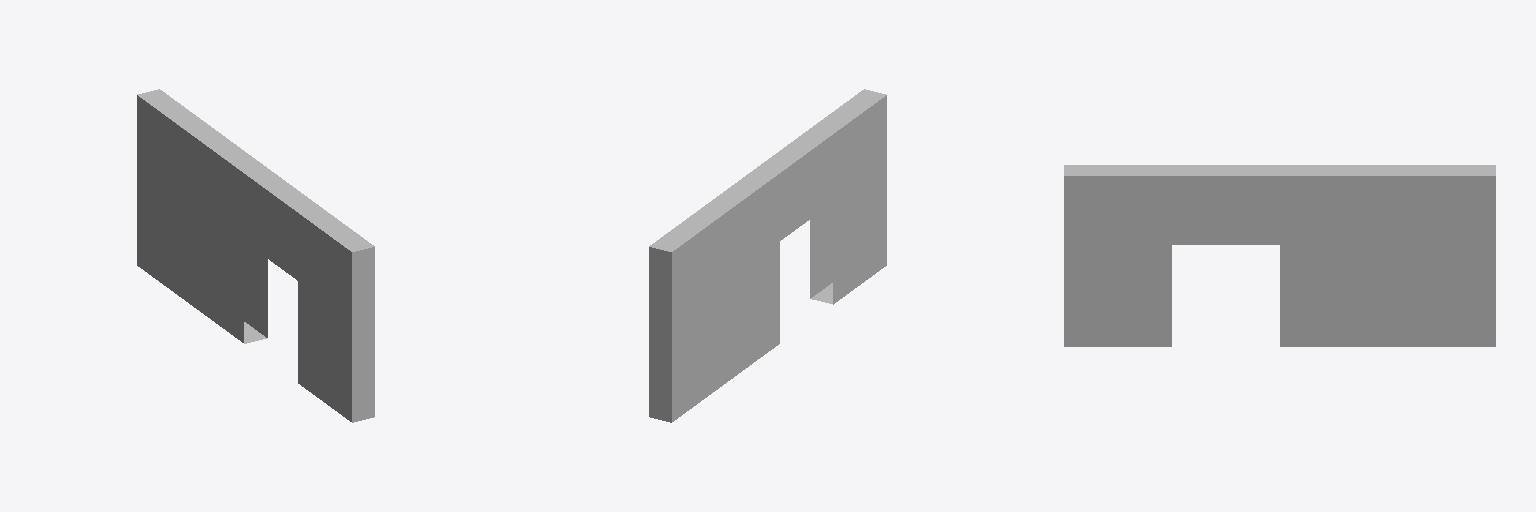
File: DoorWall.obj
3 renders of one model, left to right at view 1: azimuth 30°, elevation 25°; view 2: azimuth 150°, elevation 25°; view 3: azimuth 270°, elevation 25°, orthographic.
Visible parts, largest first — view 1: pCube1; view 2: pCube1; view 3: pCube1.
Part boxes in pixels (bbox=[...]): pCube1: bbox=[137, 89, 374, 422]; pCube1: bbox=[649, 89, 886, 422]; pCube1: bbox=[1064, 165, 1495, 346].
Size of the model in its own units: 6.05 by 42.56 by 97.52.